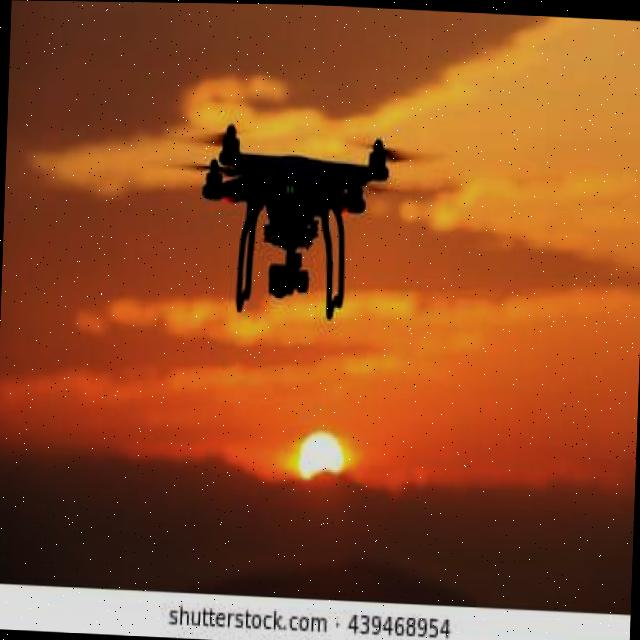drone: (154, 86, 448, 340)
